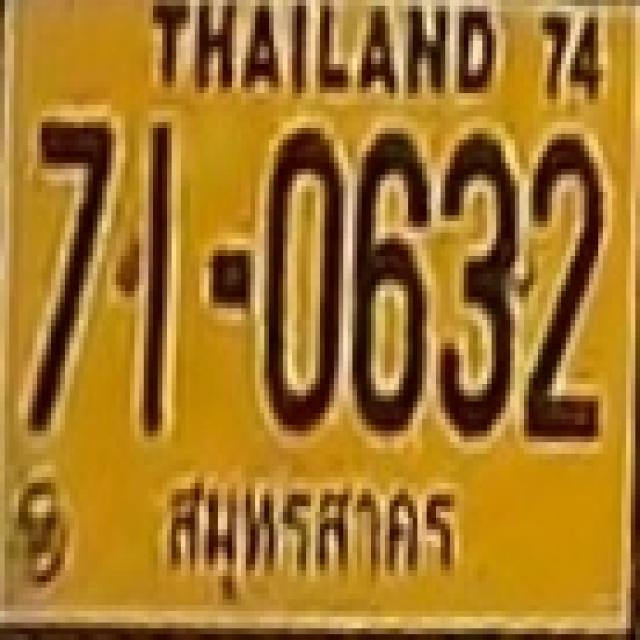0: (262, 128, 341, 431)
2: (527, 131, 606, 444)
3: (436, 131, 515, 433)
6: (350, 131, 424, 428)
7: (35, 115, 110, 432)
SKN: (153, 467, 455, 615)
